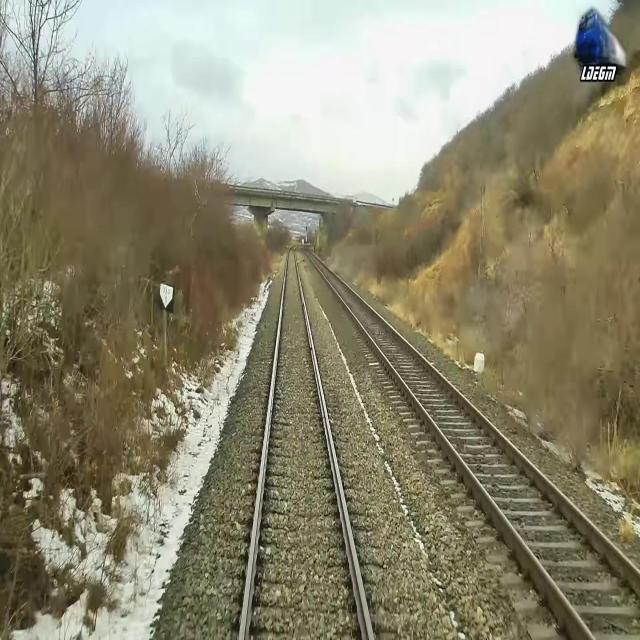rail-track: (304, 245, 640, 639), (243, 246, 369, 639)
